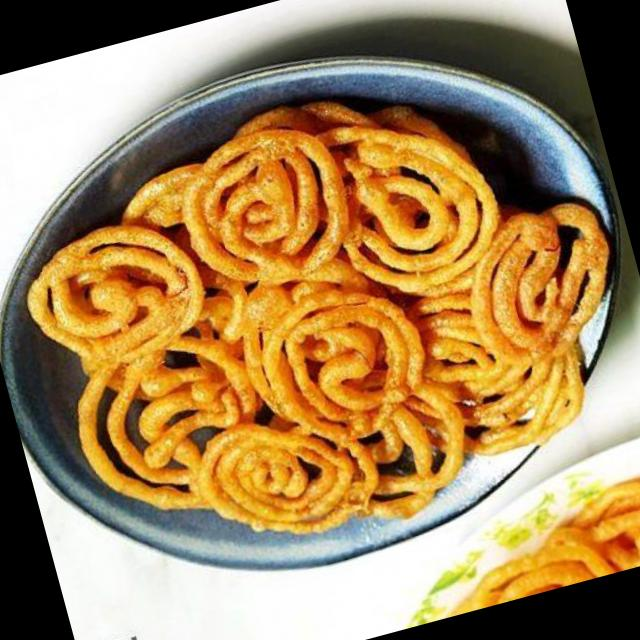jalebi: (17, 45, 640, 566), (441, 450, 640, 602)
